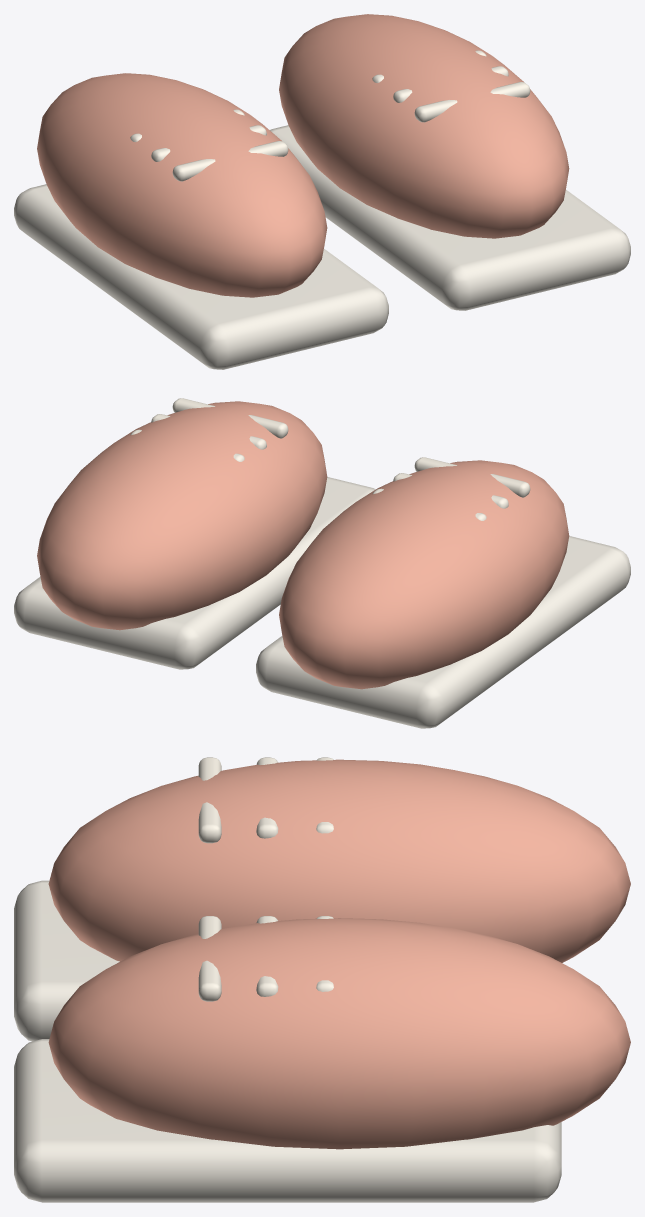
File: ShoePair.fbx
3 renders of one model, top to bottom at view 1: azimuth 30°, elevation 25°; view 2: azimuth 150°, elevation 25°; view 3: azimuth 270°, elevation 25°, orthographic. The views are drawn at different scales.
Visible parts, largest first — view 1: Upper.001, Upper, Sole, Sole.001, Lace, Lace.003; view 2: Upper.001, Upper, Sole, Sole.001, Lace.003, Lace; view 3: Upper.001, Upper, Sole.001, Sole, Lace.003, Lace.
Boxes of the visible parts, x1=… form: Upper.001: x1=279, y1=14, x2=569, y2=238; Upper: x1=37, y1=73, x2=327, y2=297; Sole: x1=14, y1=184, x2=388, y2=369; Sole.001: x1=270, y1=125, x2=630, y2=310; Lace: x1=172, y1=141, x2=288, y2=181; Lace.003: x1=414, y1=82, x2=530, y2=122; Upper.001: x1=37, y1=401, x2=327, y2=630; Upper: x1=279, y1=460, x2=569, y2=689; Sole: x1=256, y1=536, x2=630, y2=728; Sole.001: x1=14, y1=477, x2=375, y2=669; Lace.003: x1=172, y1=398, x2=288, y2=438; Lace: x1=414, y1=457, x2=530, y2=497; Upper.001: x1=48, y1=918, x2=630, y2=1149; Upper: x1=48, y1=759, x2=630, y2=962; Sole.001: x1=14, y1=1039, x2=561, y2=1202; Sole: x1=14, y1=880, x2=119, y2=1041; Lace.003: x1=198, y1=916, x2=221, y2=1001; Lace: x1=198, y1=757, x2=221, y2=843.
Size of the model in its own units: 23.4 by 8.25 by 21.4.
